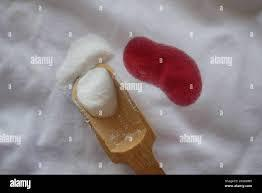blood: (131, 36, 203, 90)
